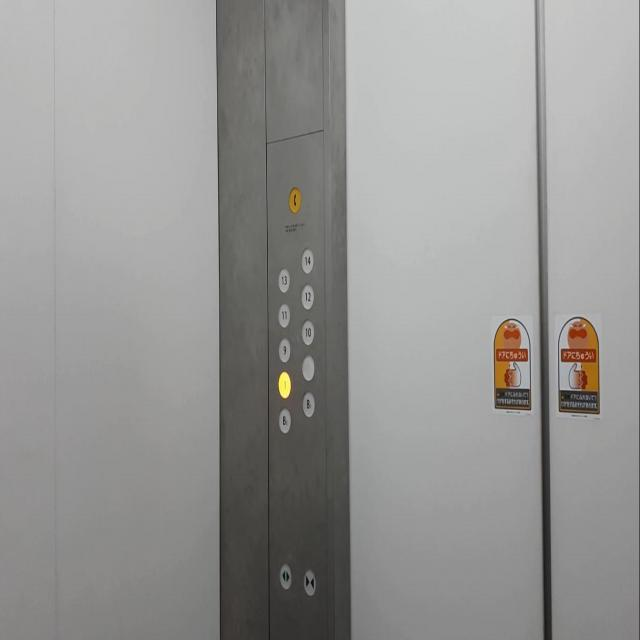1: (276, 368, 292, 400)
10: (299, 315, 316, 347)
11: (276, 298, 292, 331)
12: (299, 279, 316, 312)
13: (275, 263, 292, 295)
14: (298, 243, 316, 275)
9: (276, 332, 292, 364)
B1: (300, 387, 316, 419)
B2: (276, 403, 292, 436)
call: (286, 183, 302, 215)
close: (301, 565, 317, 597)
empty: (300, 351, 316, 383)
open: (277, 558, 293, 591)
